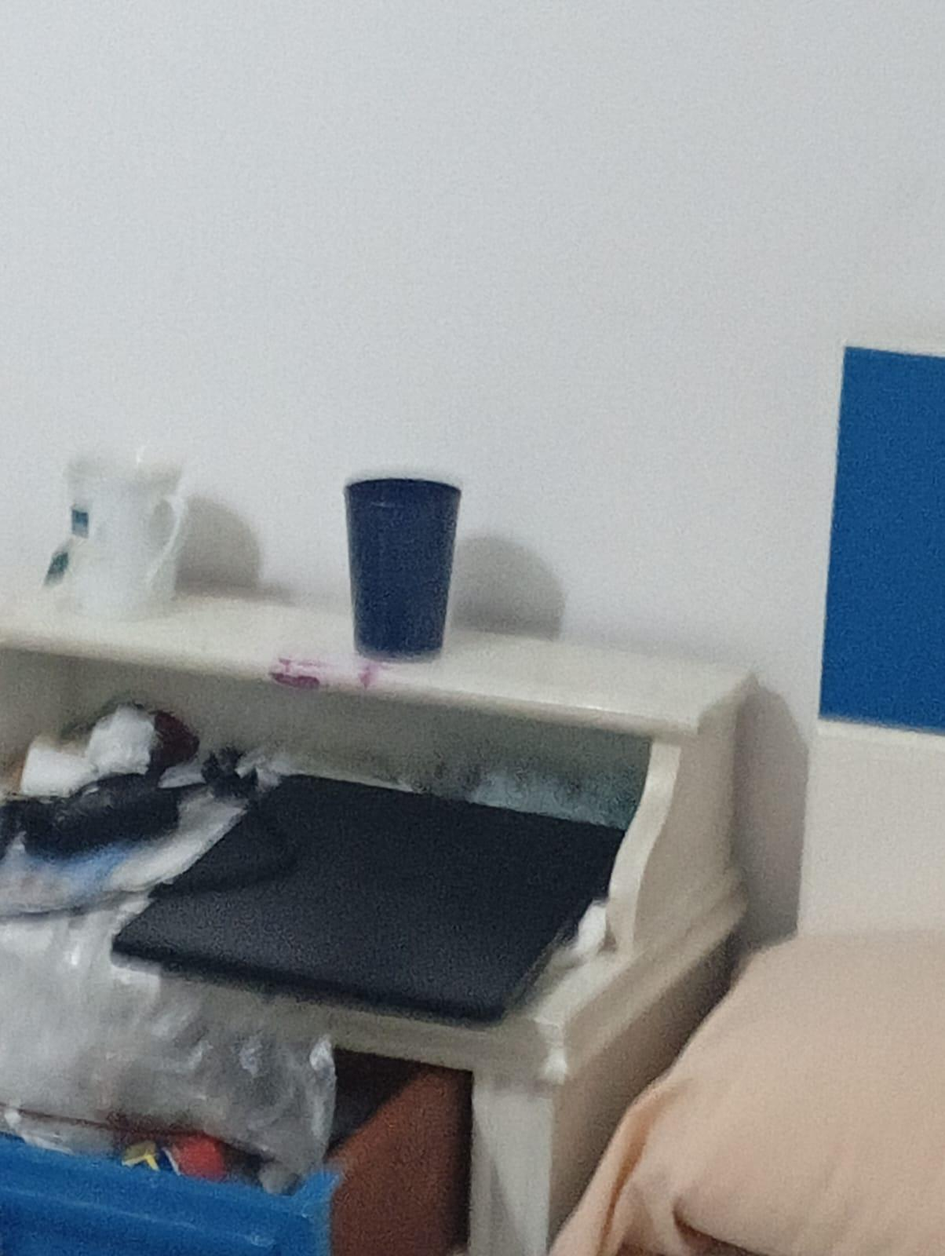cup: (345, 478, 460, 658), (67, 457, 185, 618)
